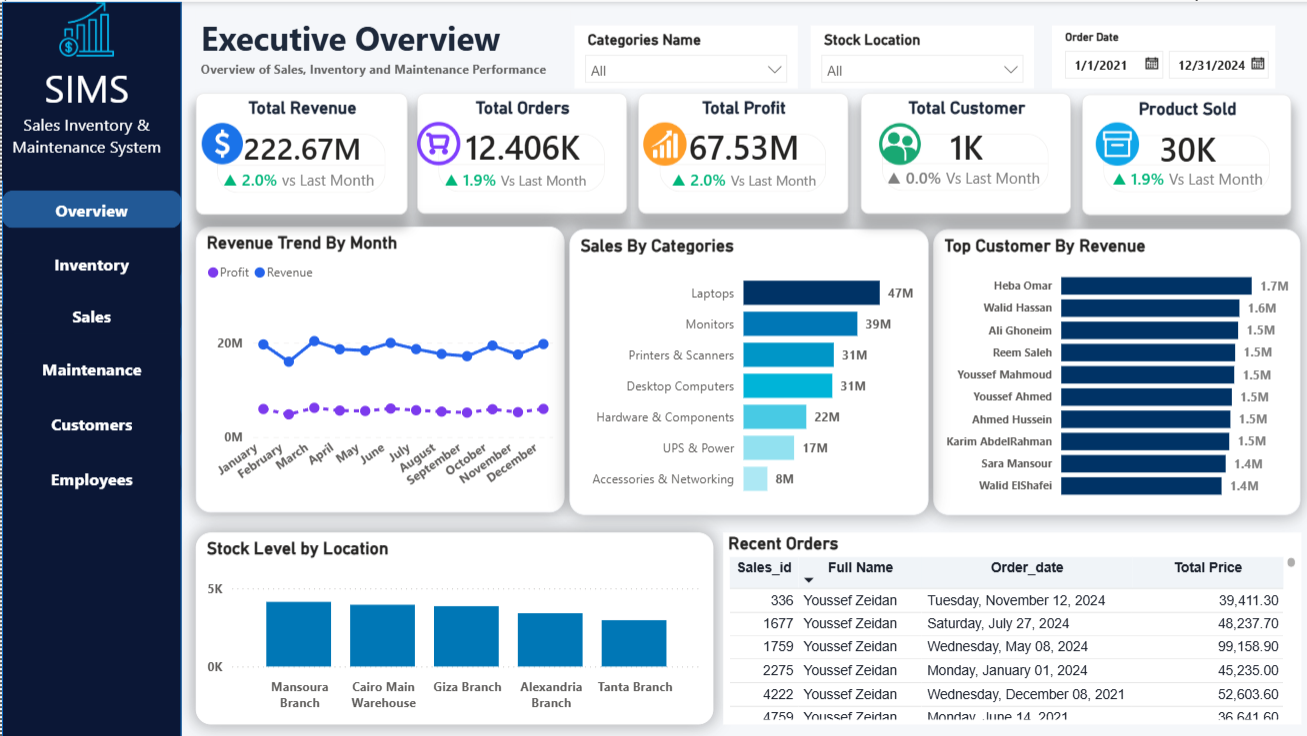

What the dashboard file says about the page in this screenshot:
{"tool":"powerbi","page":{"name":"Overview","canvas":[1280,720],"ordinal":0},"visuals":[{"type":"shape","box":[0,0,175.6,720.4],"z":0},{"type":"textbox","box":[0,37,166,138.6],"z":1000},{"type":"actionButton","box":[0,185.2,175.6,37],"z":2000},{"type":"actionButton","box":[0,237.4,175.6,37],"z":3000},{"type":"actionButton","box":[0,288.2,175.6,37],"z":4000},{"type":"actionButton","box":[0,340.3,175.6,37],"z":5000},{"type":"actionButton","box":[0,393.8,175.6,37],"z":6000},{"type":"actionButton","box":[0,447.3,175.6,37],"z":7000},{"type":"textbox","box":[189.4,8.2,366.4,89.2],"z":8000},{"type":"cardVisual","title":"Total Orders","fields":{"Data":["CountNonNull(pro_sales.Sales_id)"]},"box":[406.2,89.8,205.3,118.3],"z":9000},{"type":"cardVisual","title":"Total Profit","fields":{"Data":["sales.Profit"]},"box":[622.9,89.8,205.3,118.3],"z":10000},{"type":"cardVisual","title":"Product Sold","fields":{"Data":["Sum(pro_sales.Quantity)"]},"box":[1056.6,90.6,205,118],"z":11000},{"type":"lineChart","title":"Revenue Trend By Month","fields":{"Category":["sales.Order_date.Variation.Date Hierarchy.Month"],"Y":["sales.Profit","Sum(sales.Total_Price)"]},"box":[189.4,219.6,360.9,279.9],"z":12000},{"type":"clusteredBarChart","title":"Top Customer By Revenue","fields":{"Y":["Sum(sales.Total_Price)"],"Category":["customers.Full Name"]},"box":[911.2,222.3,359.5,279.9],"z":13000},{"type":"barChart","title":"Sales By Categories","fields":{"Category":["categories.Name"],"Y":["Sum(pro_sales.Subtotal_price)"]},"box":[555,222.3,351.3,279.9],"z":14000},{"type":"clusteredColumnChart","title":"Stock Level by Location","fields":{"Category":["stock_location.Location"],"Y":["Sum(stock_products.Quantity)"]},"box":[189.4,520.1,506.3,188],"z":15000},{"type":"tableEx","title":"Recent Orders","fields":{"Values":["sales.Sales_id","customers.Full Name","sales.Order_date","Sum(sales.Total_Price)"]},"box":[705.3,520.1,565.4,188],"z":16000},{"type":"cardVisual","title":"Total Revenue","fields":{"Data":["Sum(sales.Total_Price)"]},"box":[189.4,89.2,207.2,119.4],"z":17000},{"type":"slicer","fields":{"Values":["categories.Name"]},"box":[559.9,23.3,218.2,61.7],"z":18000},{"type":"slicer","fields":{"Values":["stock_location.Location"]},"box":[791.8,23.3,218.2,61.7],"z":19000},{"type":"slicer","fields":{"Values":["sales.Order_date"]},"box":[1027.8,23.3,218.2,61.7],"z":20000},{"type":"image","box":[0,0,166,53.5],"z":21000},{"type":"image","box":[858.1,126.9,65.6,45.6],"z":22000},{"type":"image","box":[627.1,112.5,42.5,53.5],"z":23000},{"type":"image","box":[1070.3,112.5,42.5,53.5],"z":24000},{"type":"image","box":[189.4,111.1,52.1,54.9],"z":25000},{"type":"image","box":[406.2,111.1,42.5,54.9],"z":26000},{"type":"cardVisual","title":"Total Customer","fields":{"Data":["CountNonNull(customers.Customers_id)"]},"box":[839.8,89.2,205.8,118],"z":27000},{"type":"image","box":[857.6,112.5,42.5,54],"z":28000}]}

Visuals, with their boxes on the page's 1280x720 design canvas (x1, y1, x2, y2). These are canvas units, not pixel positions in the 1307x736 screenshot, which may show the page scaled, cropped or inside an application window:
shape: bbox=(0, 0, 176, 720)
textbox: bbox=(0, 37, 166, 176)
actionButton: bbox=(0, 185, 176, 222)
actionButton: bbox=(0, 237, 176, 274)
actionButton: bbox=(0, 288, 176, 325)
actionButton: bbox=(0, 340, 176, 377)
actionButton: bbox=(0, 394, 176, 431)
actionButton: bbox=(0, 447, 176, 484)
textbox: bbox=(189, 8, 556, 97)
"Total Orders" cardVisual: bbox=(406, 90, 612, 208)
"Total Profit" cardVisual: bbox=(623, 90, 828, 208)
"Product Sold" cardVisual: bbox=(1057, 91, 1262, 209)
"Revenue Trend By Month" lineChart: bbox=(189, 220, 550, 500)
"Top Customer By Revenue" clusteredBarChart: bbox=(911, 222, 1271, 502)
"Sales By Categories" barChart: bbox=(555, 222, 906, 502)
"Stock Level by Location" clusteredColumnChart: bbox=(189, 520, 696, 708)
"Recent Orders" tableEx: bbox=(705, 520, 1271, 708)
"Total Revenue" cardVisual: bbox=(189, 89, 397, 209)
slicer - categories.Name: bbox=(560, 23, 778, 85)
slicer - stock_location.Location: bbox=(792, 23, 1010, 85)
slicer - sales.Order_date: bbox=(1028, 23, 1246, 85)
image: bbox=(0, 0, 166, 54)
image: bbox=(858, 127, 924, 172)
image: bbox=(627, 112, 670, 166)
image: bbox=(1070, 112, 1113, 166)
image: bbox=(189, 111, 242, 166)
image: bbox=(406, 111, 449, 166)
"Total Customer" cardVisual: bbox=(840, 89, 1046, 207)
image: bbox=(858, 112, 900, 166)
